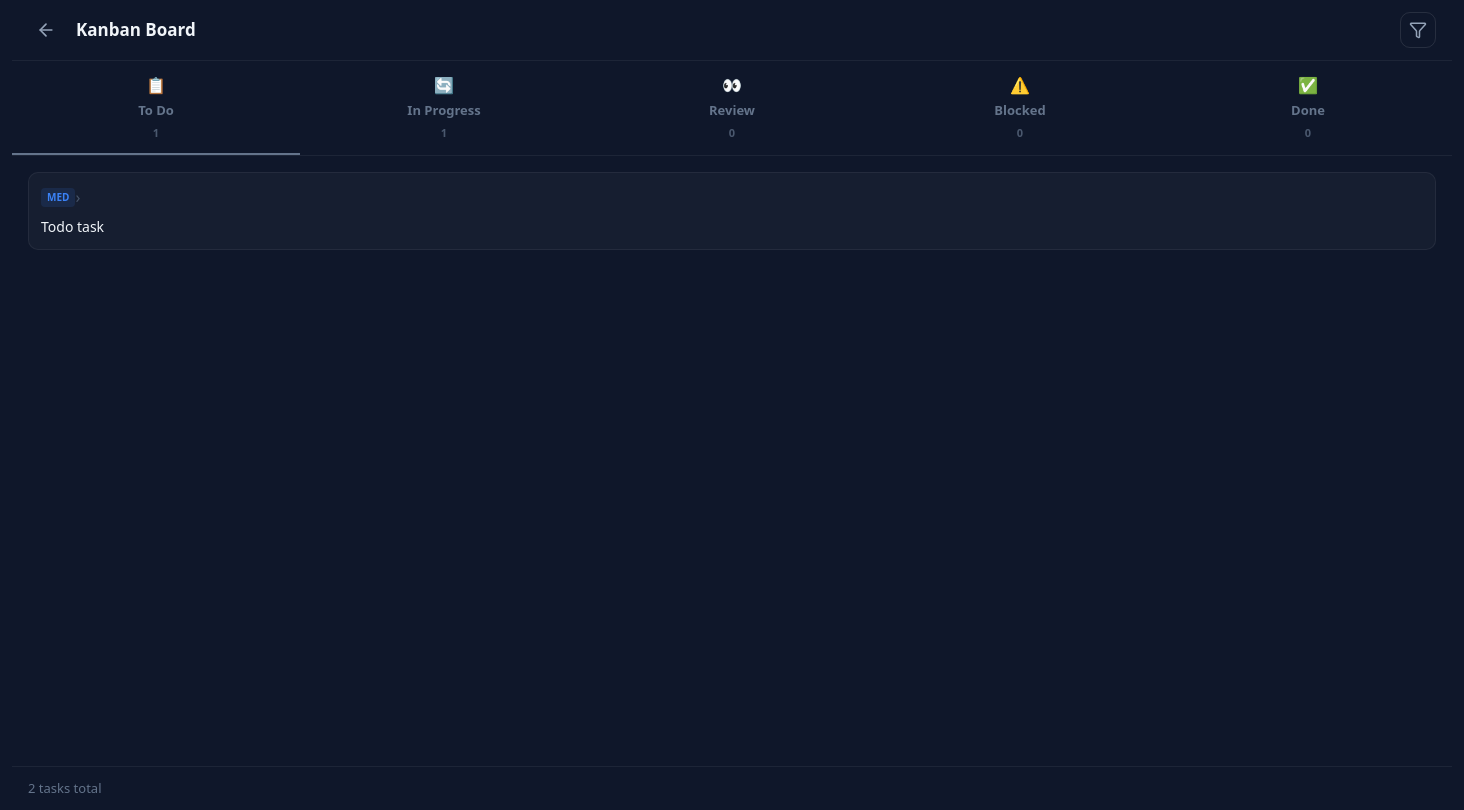
Test: MobileKanbanPanel › task list › shows tasks in in_progress column when switching
The width and height of the screenshot is (1464, 810).
Click the text "🔄" at x=444, y=85, box [434,73,454,97]
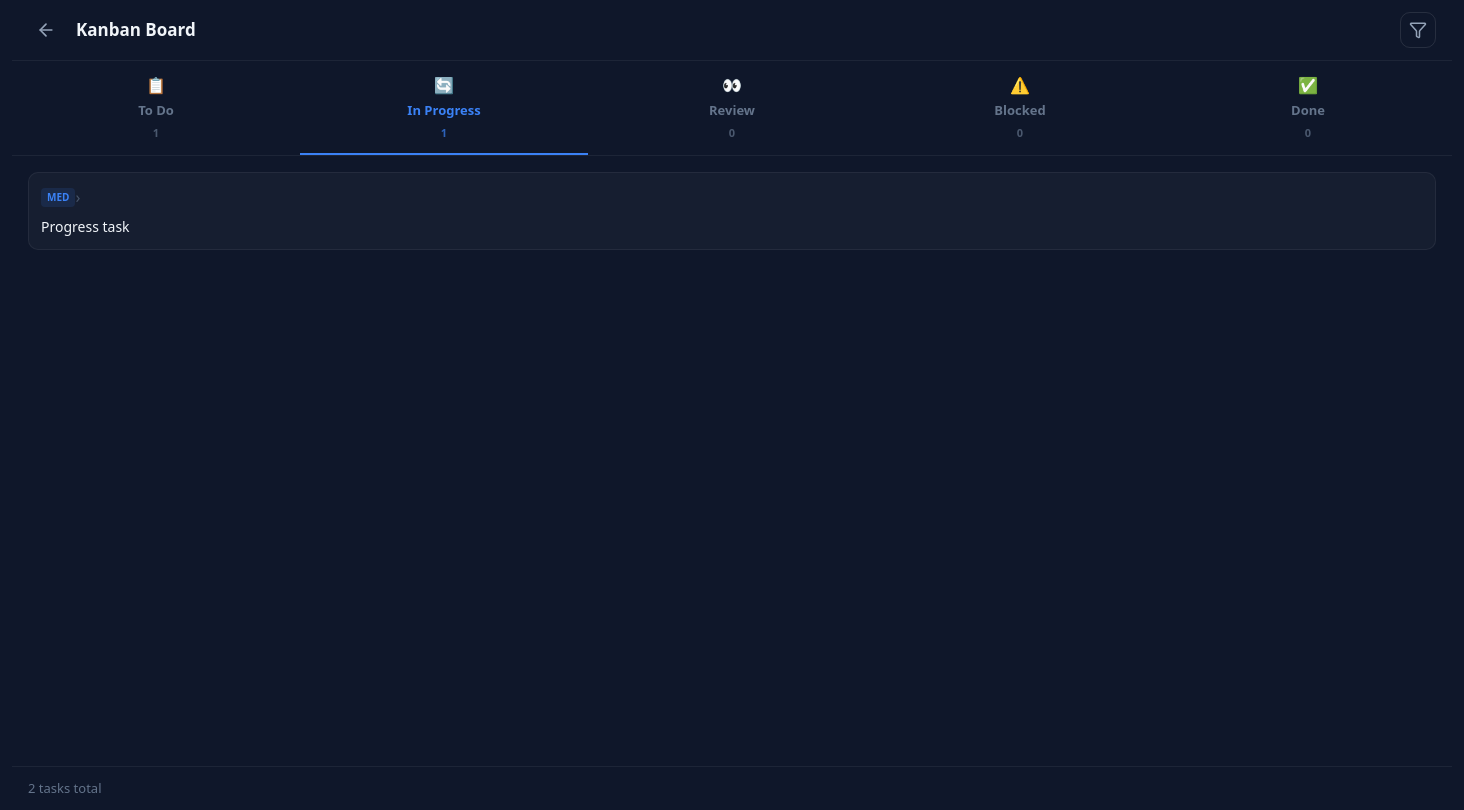
Check: the text "Progress task" is shown, box [41,217,130,237]
Check: the button "Todo task" is gone
